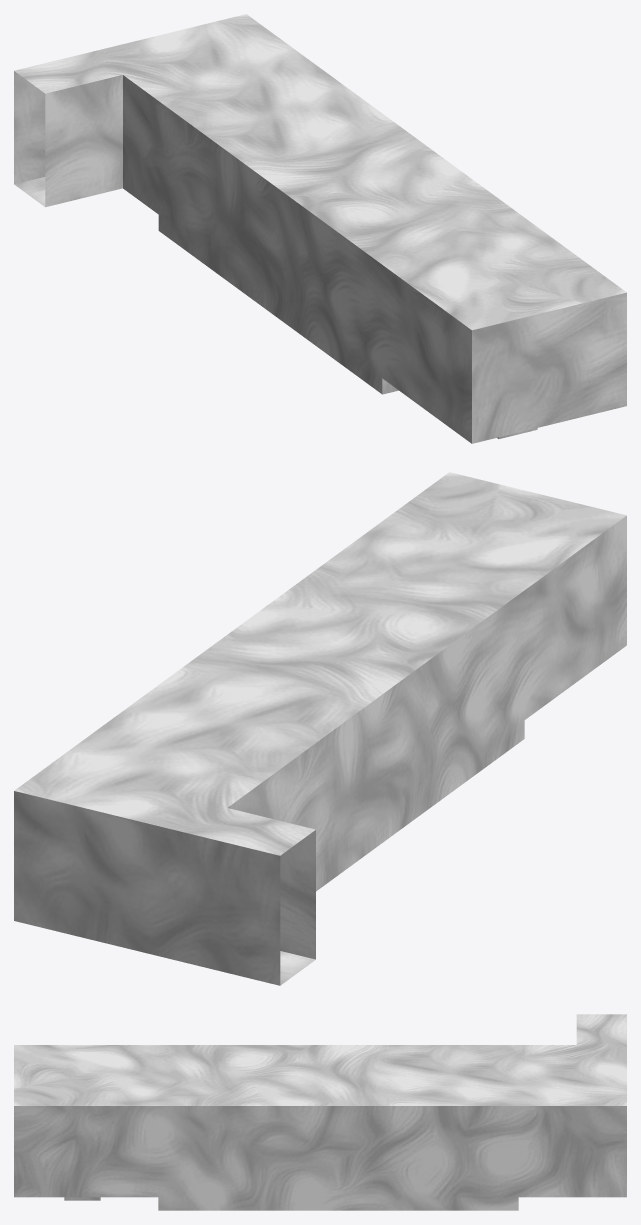
Rendered from Level2.2.obj.
3 renders of one model, top to bottom at view 1: azimuth 30°, elevation 25°; view 2: azimuth 150°, elevation 25°; view 3: azimuth 270°, elevation 25°, orthographic. The views are drawn at different scales.
Visible parts, largest first — view 1: Level2.2; view 2: Level2.2; view 3: Level2.2.
Boxes of the visible parts, box(x1,y1,x2,y2) form: Level2.2: box(14, 14, 626, 443); Level2.2: box(14, 472, 626, 985); Level2.2: box(14, 1014, 626, 1210).
Size of the model in its own units: 15 by 9 by 42.5.
Materials: 1 (1 with a texture image).
